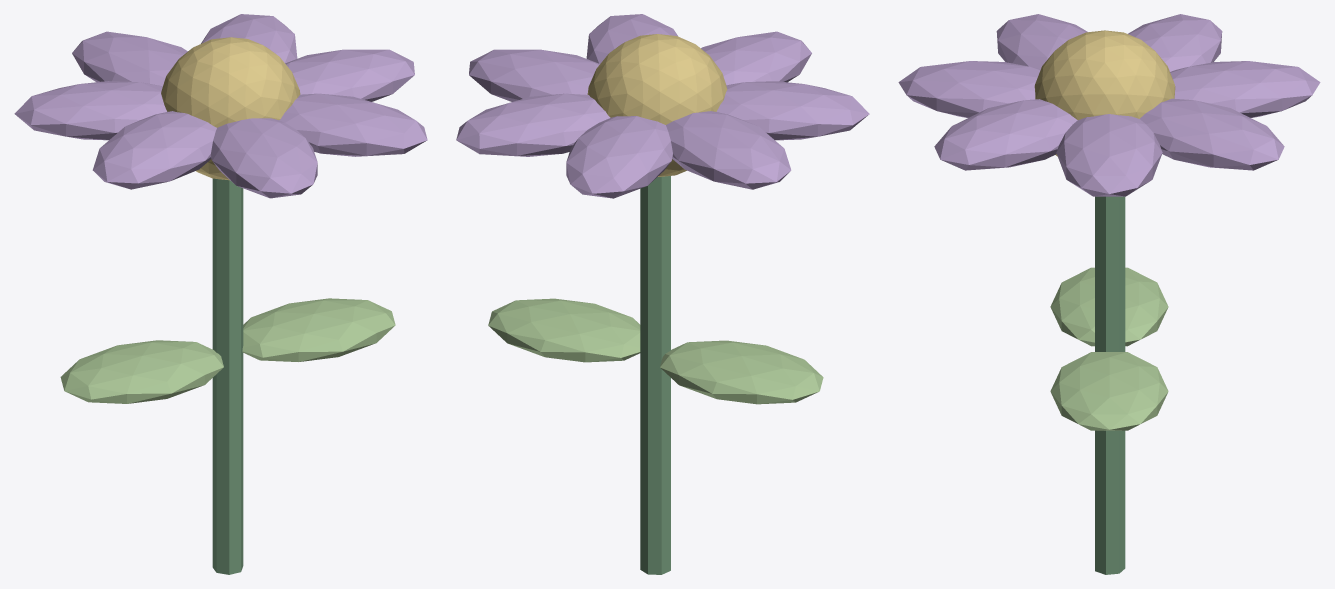
File: flower_purple.glb
The picture shows the model from 3 angles, left to right: view 1: azimuth 30°, elevation 25°; view 2: azimuth 150°, elevation 25°; view 3: azimuth 270°, elevation 25°; orthographic projection.
Visible parts, largest first — view 1: Stalk, Pollen, Leaf_-1, Leaf_1, Petal_3, Petal_1, Petal_2, Petal_4, Petal_0, Petal_5, Petal_6; view 2: Stalk, Pollen, Leaf_-1, Leaf_1, Petal_4, Petal_6, Petal_5, Petal_3, Petal_0, Petal_2, Petal_1; view 3: Pollen, Stalk, Leaf_1, Petal_6, Petal_1, Petal_0, Petal_5, Petal_2, Leaf_-1, Petal_4, Petal_3.
Boxes of the visible parts, box(x1,y1,x2,y2) form: Stalk: box(212, 178, 243, 574); Pollen: box(161, 37, 300, 180); Leaf_-1: box(60, 340, 223, 403); Leaf_1: box(242, 298, 395, 361); Petal_3: box(92, 111, 216, 189); Petal_1: box(279, 93, 427, 156); Petal_2: box(211, 118, 317, 198); Petal_4: box(14, 81, 167, 140); Petal_0: box(285, 49, 414, 101); Petal_5: box(72, 31, 187, 86); Petal_6: box(201, 14, 297, 63); Stalk: box(640, 176, 670, 574); Pollen: box(587, 34, 727, 176); Leaf_-1: box(660, 340, 823, 404); Leaf_1: box(488, 298, 640, 362); Petal_4: box(666, 111, 791, 189); Petal_6: box(456, 93, 610, 156); Petal_5: box(566, 116, 672, 198); Petal_3: box(716, 81, 869, 140); Petal_0: box(469, 49, 599, 101); Petal_2: box(701, 31, 811, 85); Petal_1: box(586, 14, 678, 63); Pollen: box(1034, 30, 1175, 156); Stalk: box(1095, 196, 1125, 574); Leaf_1: box(1050, 352, 1168, 430); Petal_6: box(1140, 98, 1284, 170); Petal_1: box(934, 99, 1077, 170); Petal_0: box(1056, 114, 1162, 196); Petal_5: box(1170, 61, 1320, 117); Petal_2: box(898, 61, 1040, 117); Leaf_-1: box(1050, 267, 1168, 346); Petal_4: box(1128, 14, 1222, 71); Petal_3: box(996, 14, 1087, 69).
Size of the model in its own units: 0.9049 by 1.29 by 0.9281.
